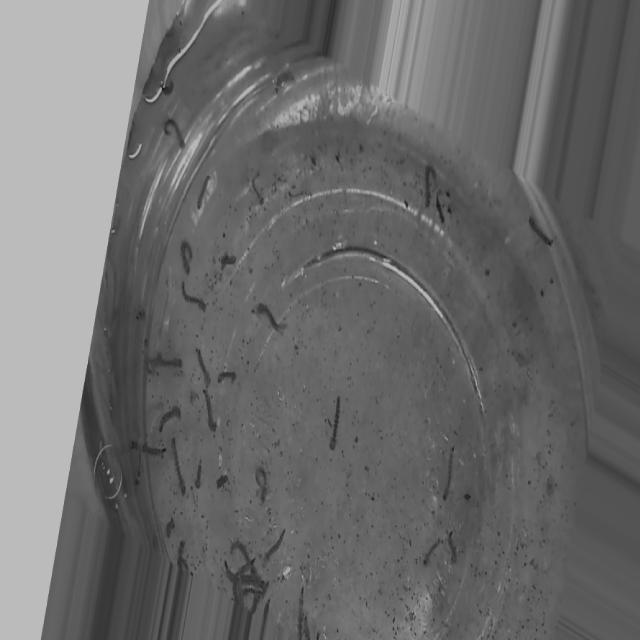larvas: (231, 537, 269, 593), (233, 558, 256, 609), (442, 448, 458, 503), (528, 215, 552, 247), (172, 440, 186, 493), (328, 395, 341, 452), (258, 304, 283, 333), (147, 355, 184, 374), (182, 282, 206, 311), (164, 118, 185, 149), (422, 166, 435, 212), (134, 438, 164, 457), (297, 584, 307, 640), (203, 392, 216, 434), (266, 532, 285, 560), (197, 175, 211, 211), (198, 350, 212, 385), (424, 540, 441, 566), (255, 468, 268, 502), (178, 540, 192, 570), (244, 589, 261, 613), (159, 407, 179, 427), (181, 236, 192, 272), (252, 172, 263, 205), (135, 438, 143, 483), (276, 73, 293, 94), (193, 457, 204, 489), (448, 535, 458, 565), (286, 189, 312, 200), (216, 371, 236, 384), (221, 252, 236, 266), (167, 514, 174, 542), (224, 562, 234, 580), (303, 615, 310, 639), (264, 598, 272, 615)
